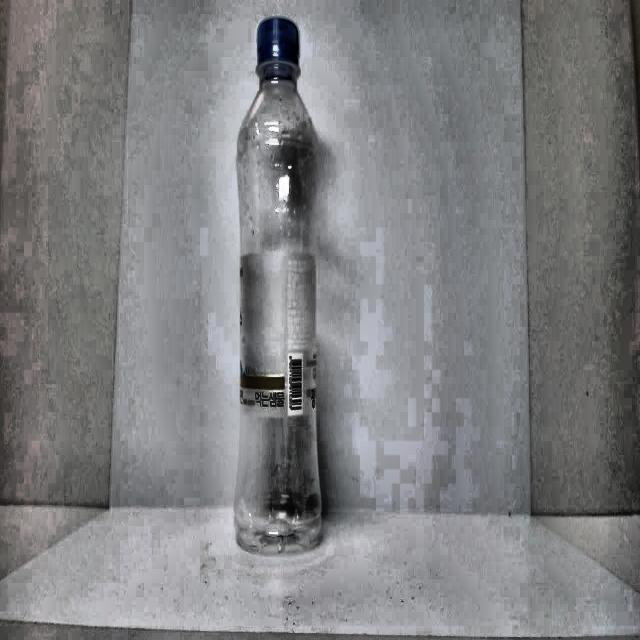Bottles: (226, 9, 334, 571)
